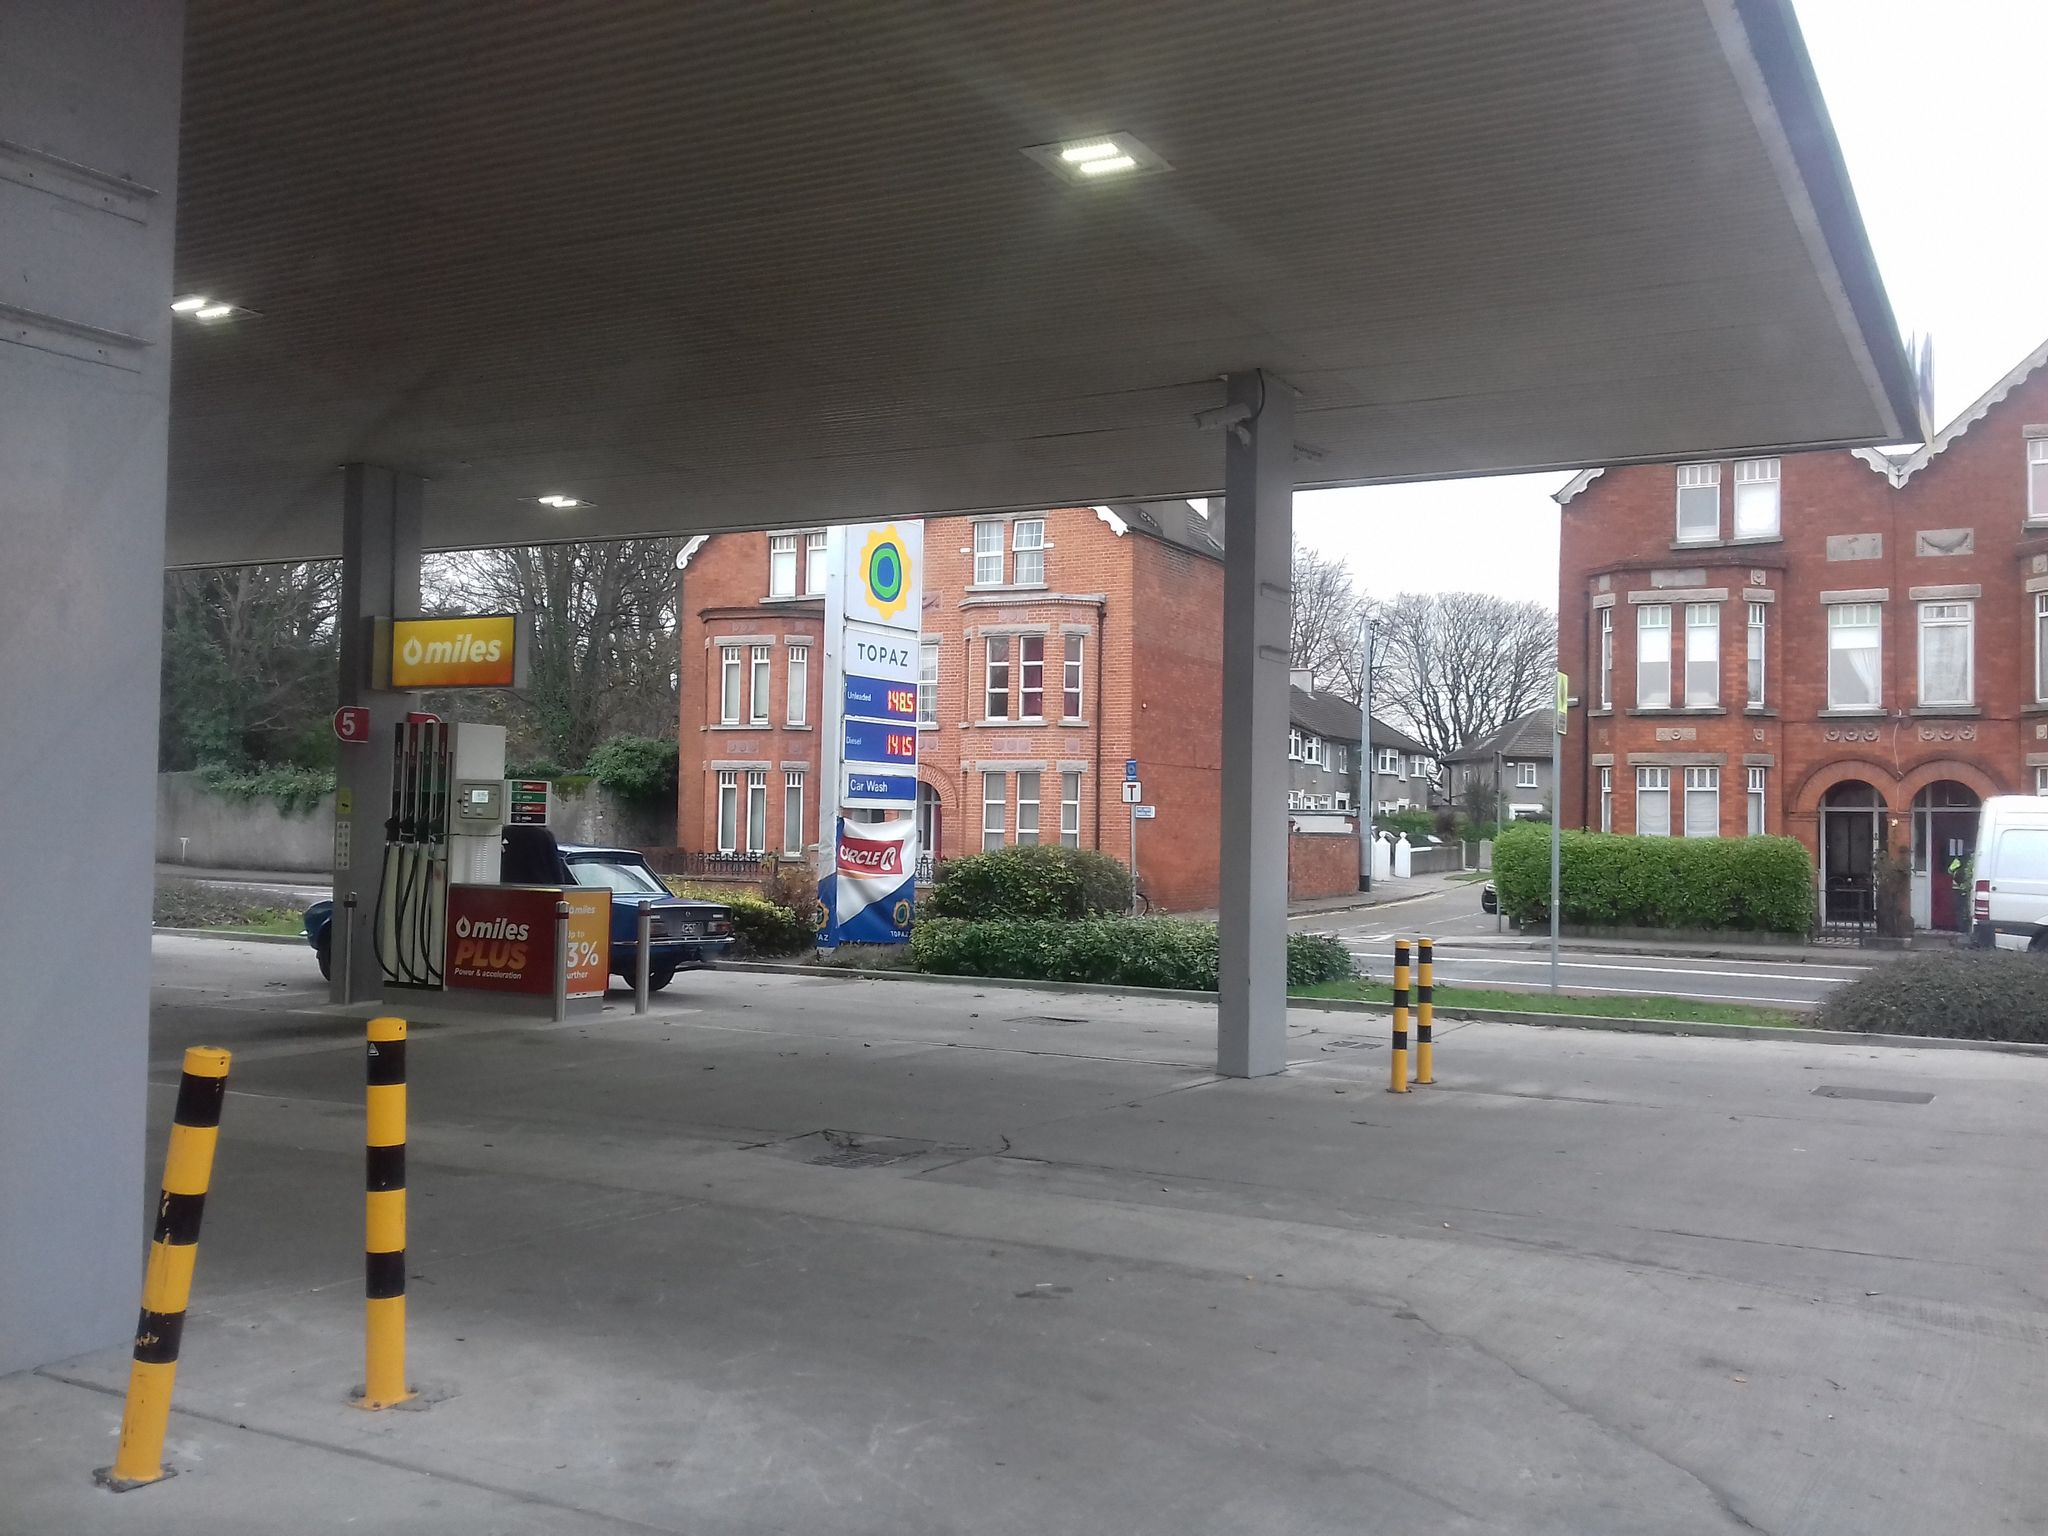vinyl banner: (806, 807, 939, 957)
